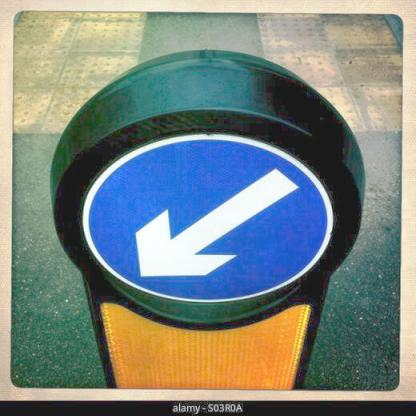Keep left: (77, 129, 342, 309)
